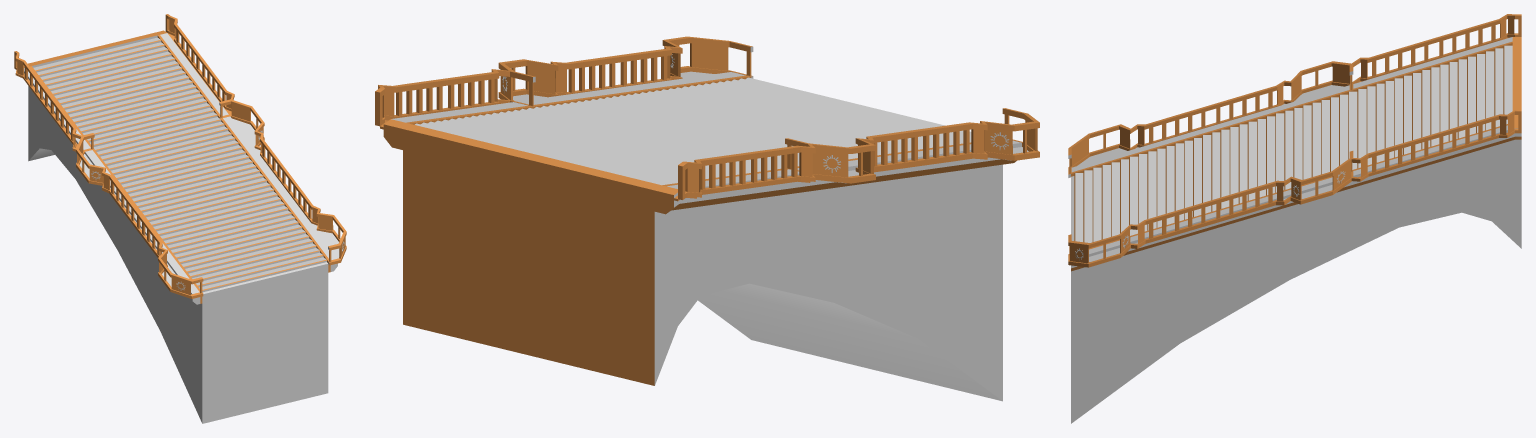
Rendered from prop_Bridge_Slant.fbx.
3 views of the same model, side by side, from view 1: azimuth 30°, elevation 25°; view 2: azimuth 150°, elevation 25°; view 3: azimuth 270°, elevation 25° (orthographic). The views are drawn at different scales.
Visible parts, largest first — view 1: prop_Bridge_Slant; view 2: prop_Bridge_Slant; view 3: prop_Bridge_Slant.
Part boxes in pixels (box(x1,y1,x2,y2)): prop_Bridge_Slant: box(14, 14, 346, 423); prop_Bridge_Slant: box(375, 36, 1039, 401); prop_Bridge_Slant: box(1068, 14, 1521, 423).
Bounding box in the file's own units: 1182 × 1592 × 2035.
